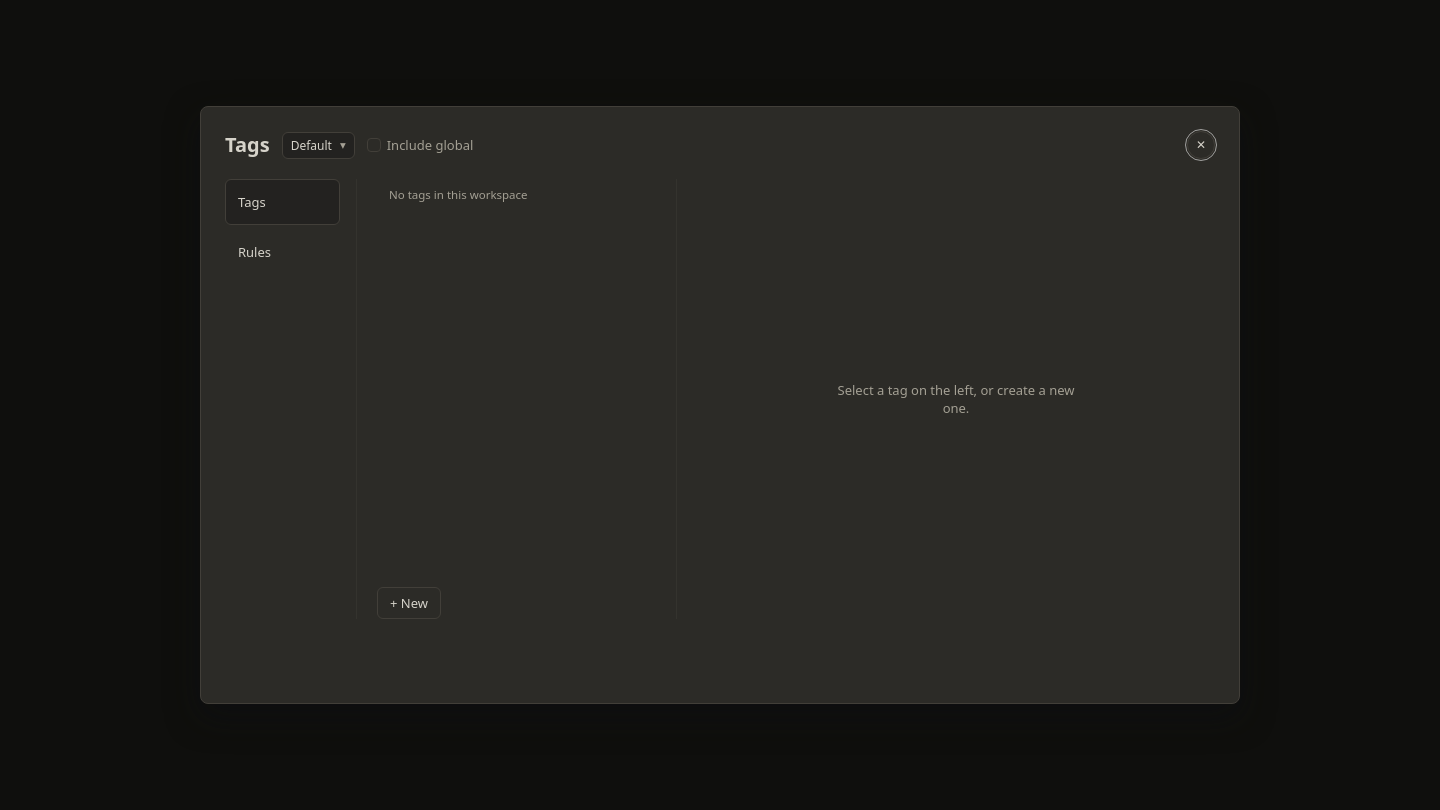
Test: TagsDialog › a refused delete (a rule uses the tag) says so and keeps the row
Click the button "Default ▾".
click(318, 145)  # box x1=282 y1=132 x2=355 y2=158
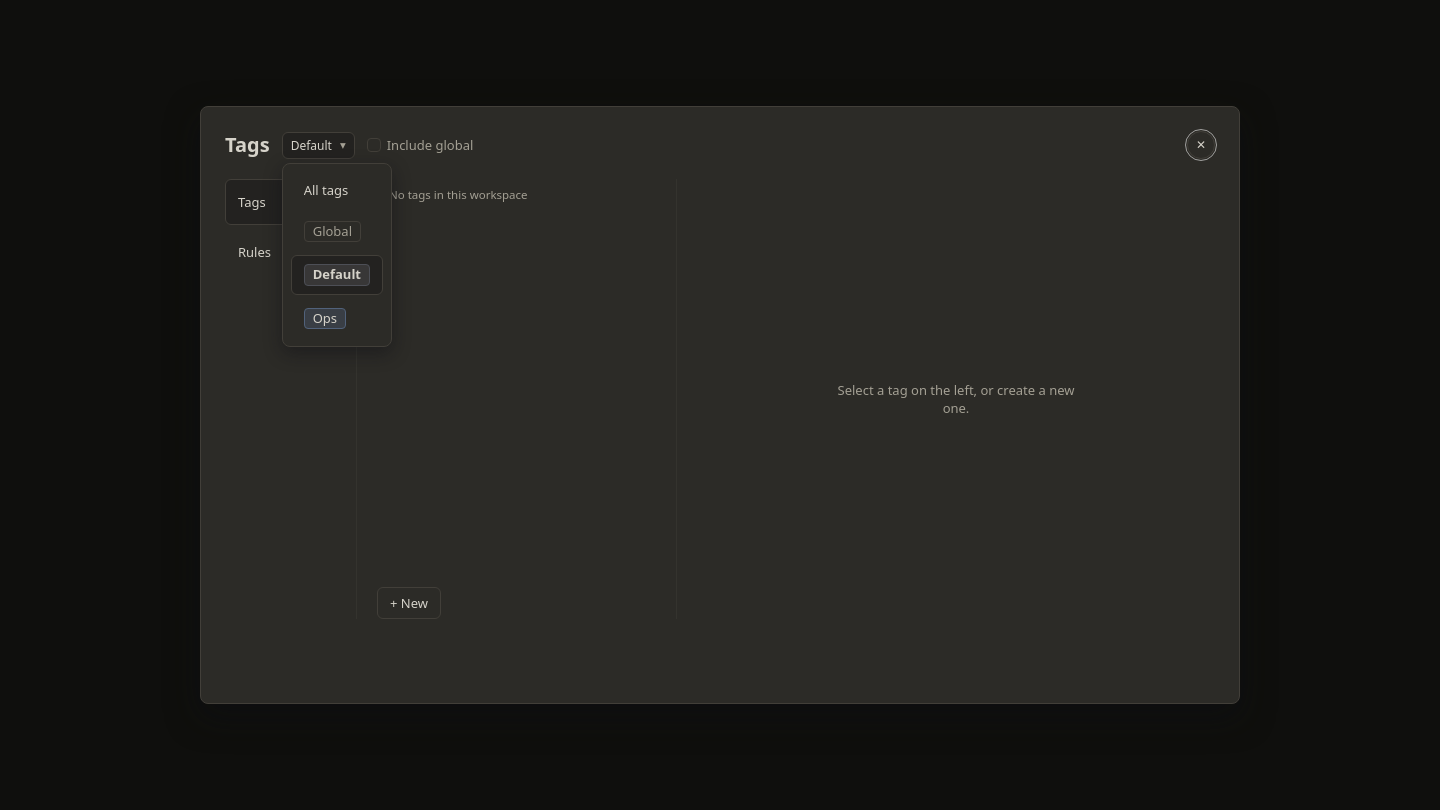
Click the option "All tags".
click(337, 190)  # box x1=291 y1=172 x2=383 y2=208
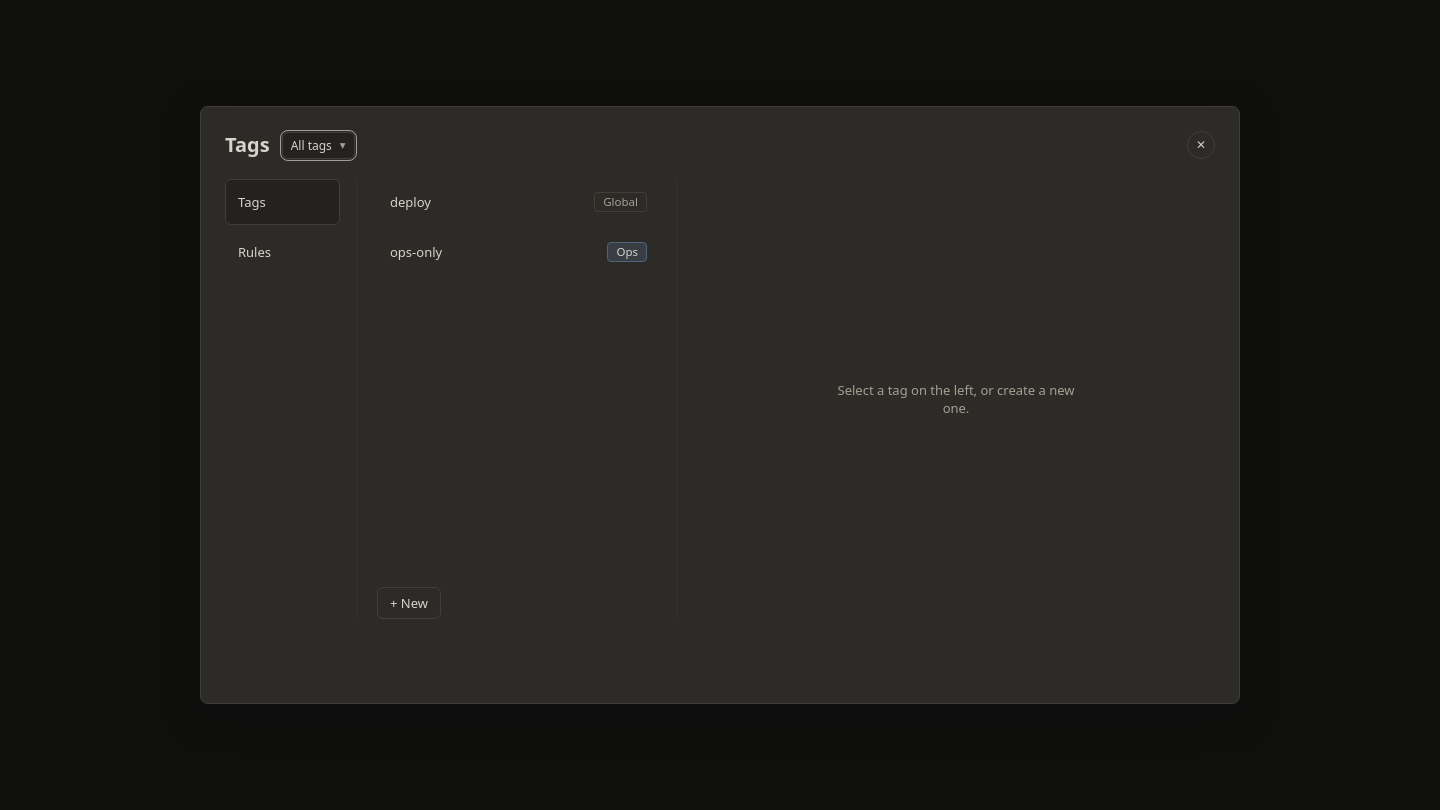
Click the button with test id "tag-select-t-deploy".
click(410, 202)  # box x1=378 y1=180 x2=659 y2=224
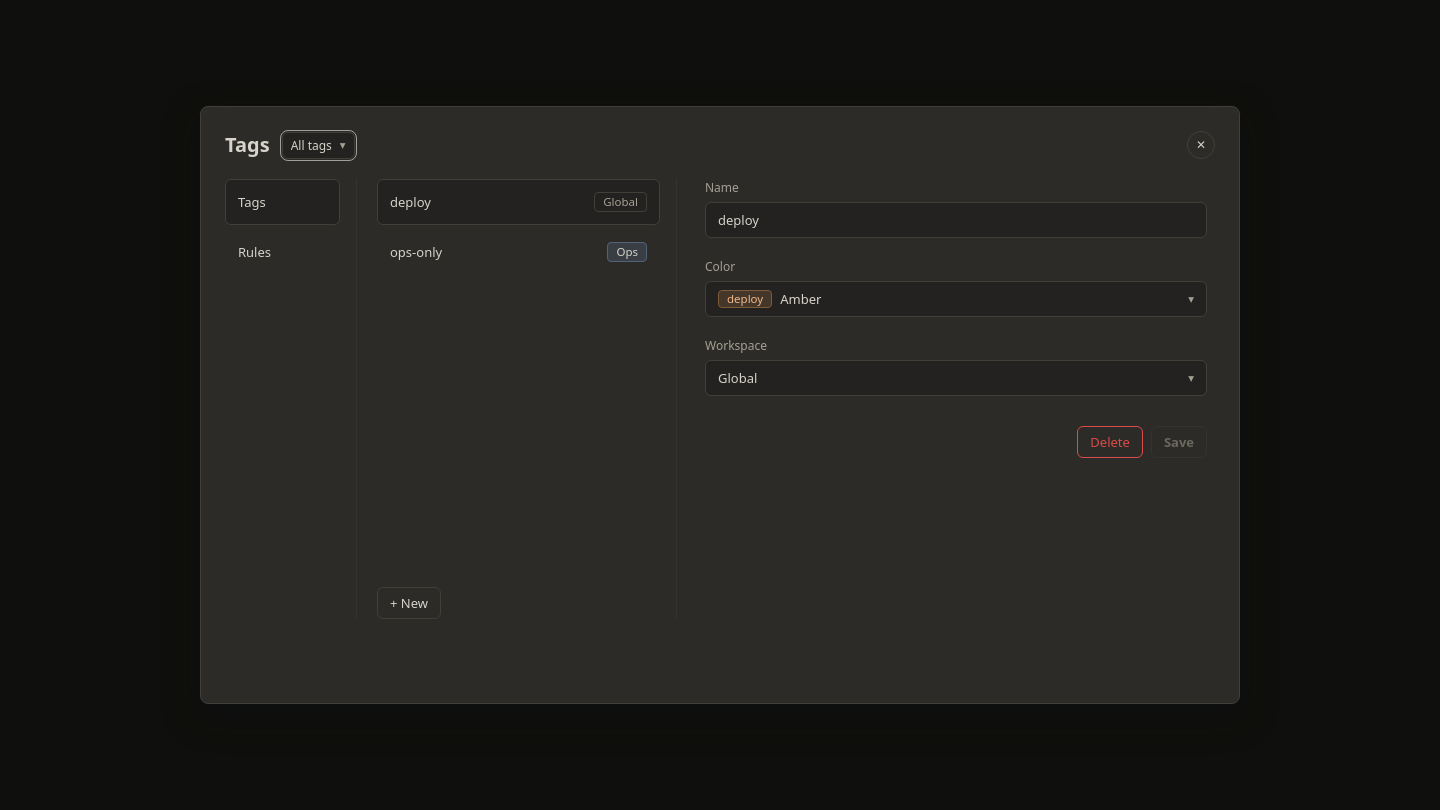
Click the button with test id "tag-delete".
click(1110, 442)  # box x1=1077 y1=426 x2=1143 y2=458
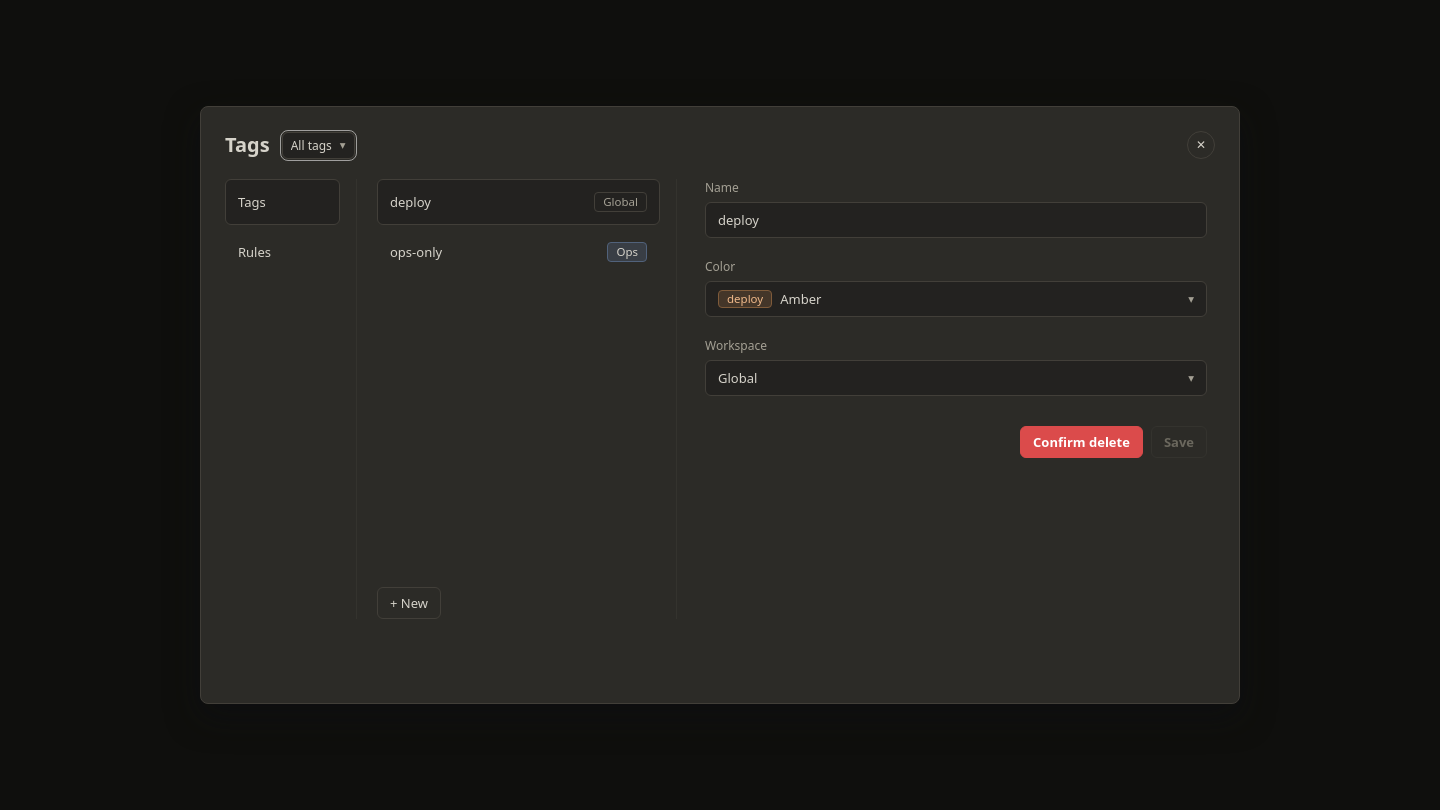
Click the button with test id "tag-delete".
click(1082, 442)  # box x1=1020 y1=426 x2=1143 y2=458
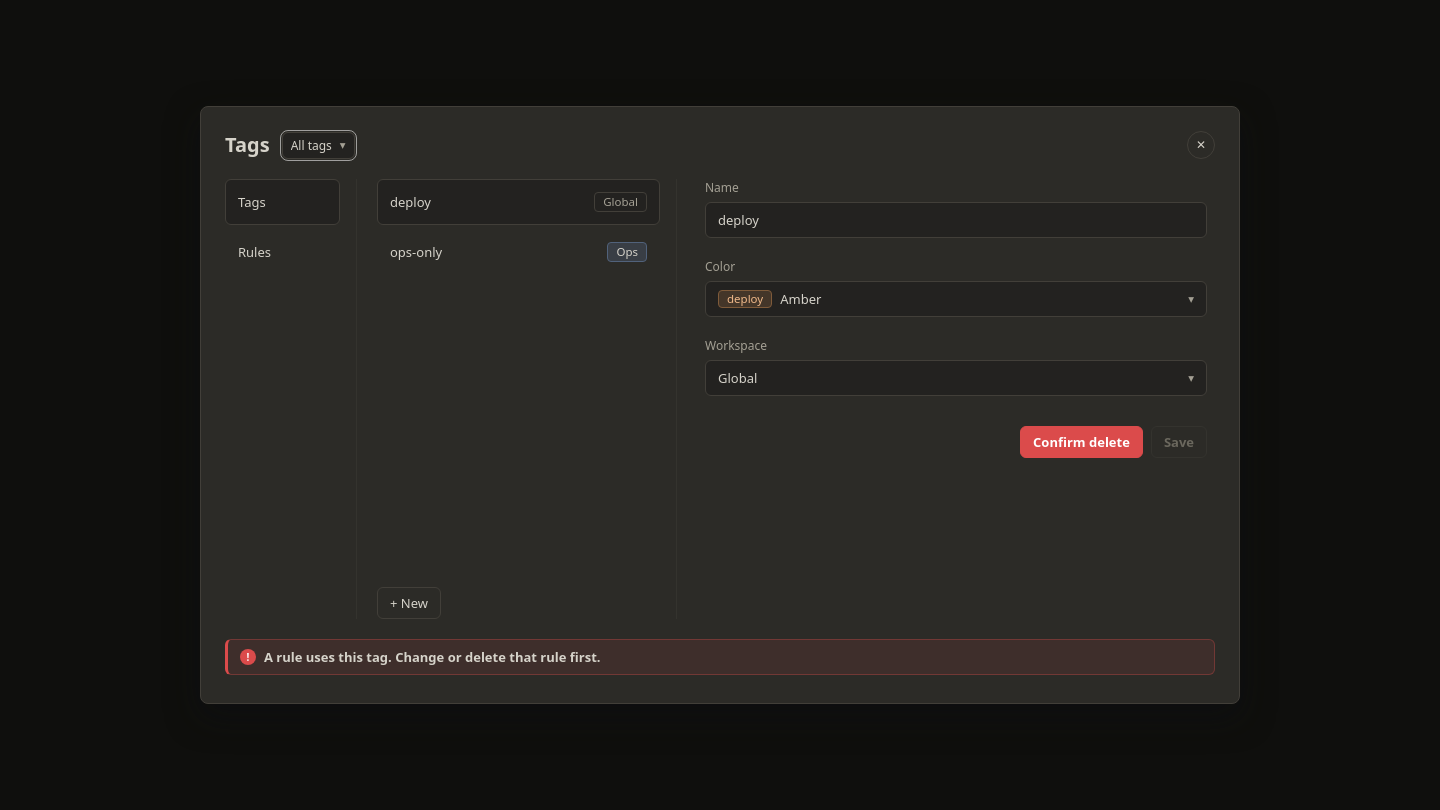
Result: the 1st text "deploy" is shown at x1=390 y1=193 x2=431 y2=211
Result: the message with test id "tag-error" shows "rule" at x1=264 y1=648 x2=600 y2=666
